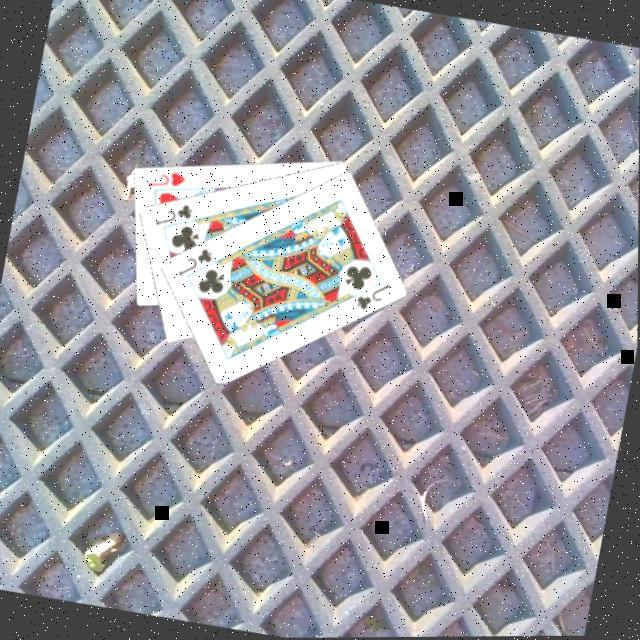JC: (174, 238, 218, 282), (352, 274, 396, 316), (152, 194, 198, 232)
JH: (144, 162, 190, 194)
